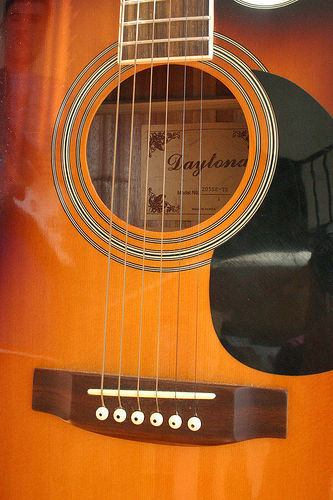guitar: (1, 1, 333, 499)
